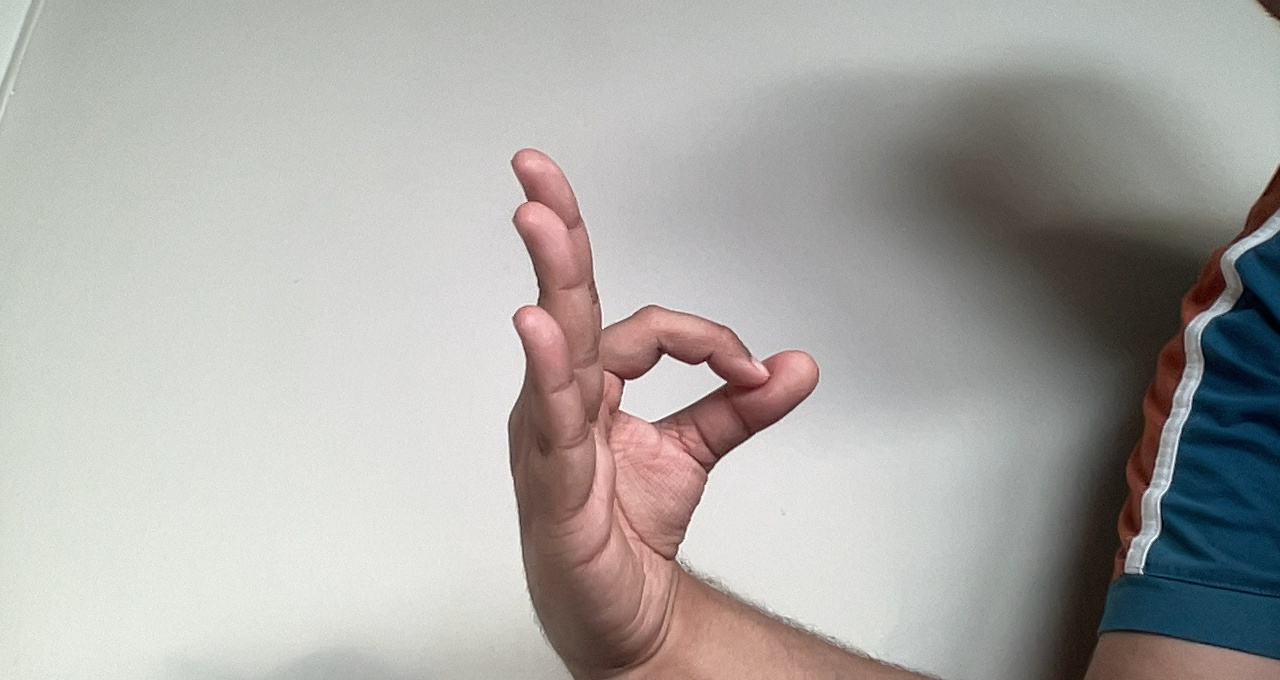ok: (471, 131, 834, 652)
